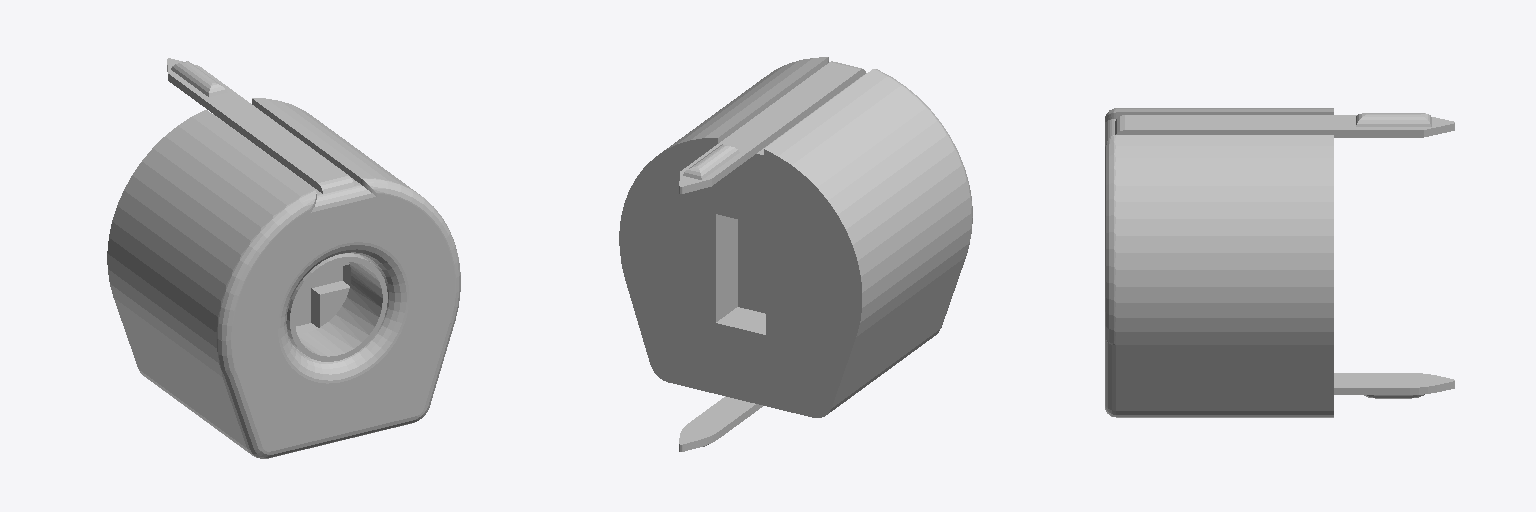
The model's file is Trimmer Cap - Blue - 5pf.obj.
The picture shows the model from 3 angles: view 1: azimuth 30°, elevation 25°; view 2: azimuth 150°, elevation 25°; view 3: azimuth 270°, elevation 25°; orthographic projection.
Visible parts, largest first — view 1: Solid1; view 2: Solid1; view 3: Solid1.
Part boxes in pixels (x1,y1,x2,y2): Solid1: (107, 58, 460, 458); Solid1: (619, 57, 972, 451); Solid1: (1105, 108, 1454, 417).
Size of the model in its own units: 6.09 by 6.76 by 7.61.